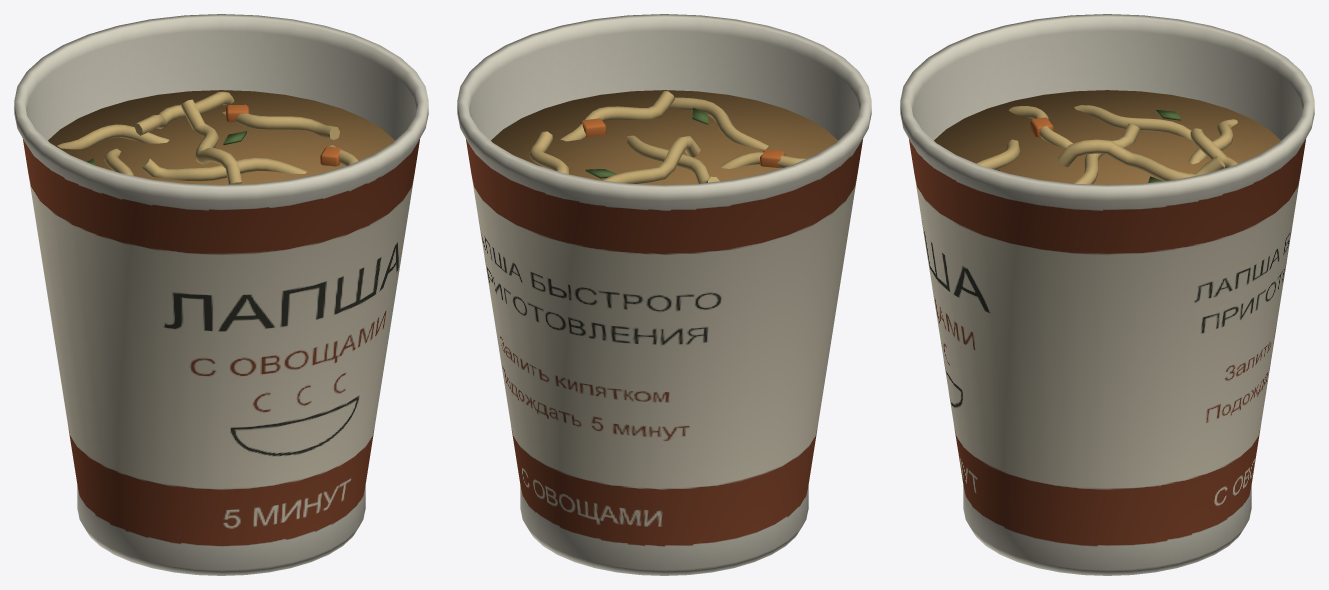
File: Noodles_LOD0.fbx
The picture shows the model from 3 angles, left to right: view 1: azimuth 30°, elevation 25°; view 2: azimuth 150°, elevation 25°; view 3: azimuth 270°, elevation 25°; orthographic projection.
Visible parts, largest first — view 1: Body_LOD0; view 2: Body_LOD0; view 3: Body_LOD0.
Part boxes in pixels (left/top/right/bottom): Body_LOD0: left=14, top=14, right=428, bottom=575; Body_LOD0: left=457, top=14, right=871, bottom=575; Body_LOD0: left=900, top=14, right=1314, bottom=575.
Size of the model in its own units: 0.095 by 0.105 by 0.095.
